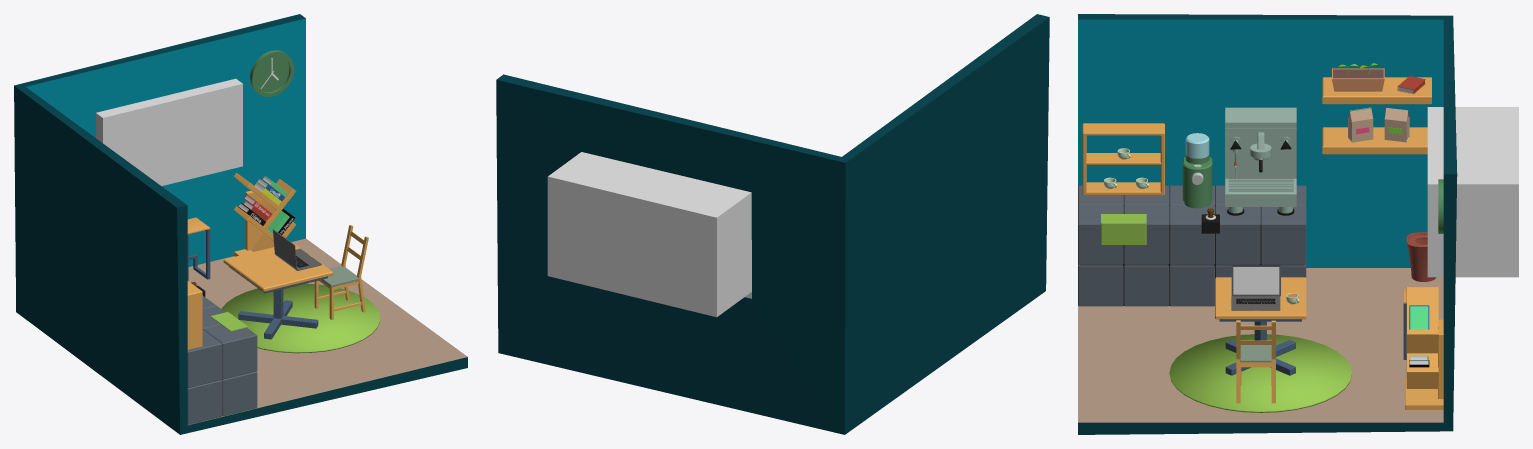
The model's file is coffeeshop.glb.
3 views of the same model, side by side, from view 1: azimuth 30°, elevation 25°; view 2: azimuth 150°, elevation 25°; view 3: azimuth 270°, elevation 25° (orthographic). The views are drawn at different scales.
Visible parts, largest first — view 1: Platform, Cube, Cylinder, StandBrick, TableTop, Bookshelf, Clock, Table, Chair, Cupboard, Macbook, Stool (+1 smaller); view 2: Platform, Cube; view 3: Platform, StandBrick, Cube, Cylinder, Espresso, Shelf, Bookshelf, Cupboard, TableTop, Blender, Towel, Chair (+12 smaller).
Boxes of the visible parts, <box> form: Platform: <box>14,14,467,434</box>; Cube: <box>96,78,242,185</box>; Cylinder: <box>221,283,380,353</box>; StandBrick: <box>187,295,257,424</box>; TableTop: <box>223,242,333,291</box>; Bookshelf: <box>233,173,296,256</box>; Clock: <box>250,50,294,96</box>; Table: <box>229,266,327,339</box>; Chair: <box>314,225,368,319</box>; Cupboard: <box>187,281,202,349</box>; Macbook: <box>272,229,321,270</box>; Stool: <box>187,229,210,280</box>; Platform: <box>496,14,1049,434</box>; Cube: <box>547,152,751,317</box>; Platform: <box>1078,14,1457,434</box>; StandBrick: <box>1078,185,1306,306</box>; Cube: <box>1427,107,1518,277</box>; Cylinder: <box>1169,334,1351,412</box>; Espresso: <box>1225,107,1296,215</box>; Shelf: <box>1322,77,1431,154</box>; Bookshelf: <box>1405,287,1443,409</box>; Cupboard: <box>1082,123,1164,194</box>; TableTop: <box>1215,277,1306,319</box>; Blender: <box>1182,155,1212,208</box>; Towel: <box>1101,214,1146,244</box>; Chair: <box>1236,320,1275,403</box>.
Bounding box in the file's own units: 8.3 × 6.3 × 9.65.
38 materials, 4 textured.
